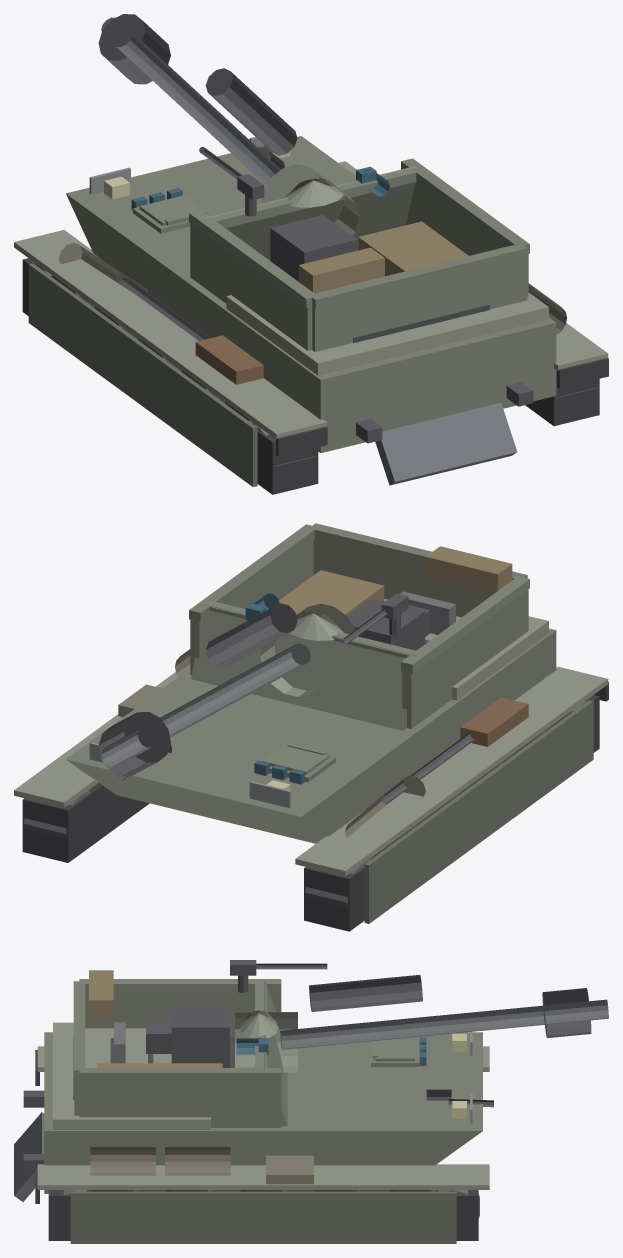
Rendered from soviet_artillery.glb.
3 views of the same model, one above another, from view 1: azimuth 30°, elevation 25°; view 2: azimuth 150°, elevation 25°; view 3: azimuth 270°, elevation 25° (orthographic). The views are drawn at different scales.
Parts seen in each view (by area): view 1: hull, skirt_l, fender_l, casemate_rim, casemate_rear, engine_deck, spade, casemate_l, barrel, casemate_front, breech, recoil (+17 smaller); view 2: hull, skirt_l, fender_l, casemate_front, casemate_rim, casemate_l, track_r, casemate_rear, barrel, track_l, fender_r, recoil (+17 smaller); view 3: hull, skirt_r, fender_r, casemate_r, barrel, casemate_rim, engine_deck, breech, casemate_l, recoil, track_r, turret (+14 smaller).
Boxes of the visible parts, left/top/right/bottom form: hull: left=66, top=136, right=556, bottom=452; skirt_l: left=28, top=263, right=257, bottom=486; fender_l: left=14, top=230, right=326, bottom=439; casemate_rim: left=189, top=158, right=529, bottom=308; casemate_rear: left=312, top=257, right=527, bottom=351; engine_deck: left=226, top=292, right=548, bottom=375; spade: left=375, top=402, right=517, bottom=485; casemate_l: left=190, top=223, right=312, bottom=350; barrel: left=101, top=17, right=281, bottom=184; casemate_front: left=204, top=166, right=416, bottom=258; breech: left=270, top=215, right=357, bottom=281; recoil: left=205, top=68, right=297, bottom=155; hull: left=66, top=628, right=556, bottom=843; skirt_l: left=364, top=700, right=593, bottom=923; fender_l: left=295, top=666, right=608, bottom=876; casemate_front: left=191, top=604, right=416, bottom=730; casemate_rim: left=189, top=523, right=529, bottom=673; casemate_l: left=402, top=589, right=528, bottom=728; track_r: left=22, top=784, right=149, bottom=862; casemate_rear: left=313, top=539, right=493, bottom=617; barrel: left=101, top=643, right=310, bottom=767; track_l: left=304, top=695, right=599, bottom=931; fender_r: left=14, top=672, right=177, bottom=807; recoil: left=205, top=603, right=297, bottom=668; hull: left=44, top=1032, right=482, bottom=1193; skirt_r: left=70, top=1191, right=456, bottom=1243; fender_r: left=37, top=1164, right=489, bottom=1189; casemate_r: left=79, top=1081, right=281, bottom=1127; barrel: left=280, top=999, right=608, bottom=1049; casemate_rim: left=73, top=979, right=281, bottom=1080; engine_deck: left=53, top=1022, right=210, bottom=1129; breech: left=146, top=1005, right=229, bottom=1067; casemate_l: left=85, top=992, right=281, bottom=1036; recoil: left=309, top=975, right=422, bottom=1011; track_r: left=48, top=1190, right=478, bottom=1240; turret: left=235, top=1010, right=297, bottom=1072.
Size of the model in its own units: 4.62 by 3.02 by 8.14.
